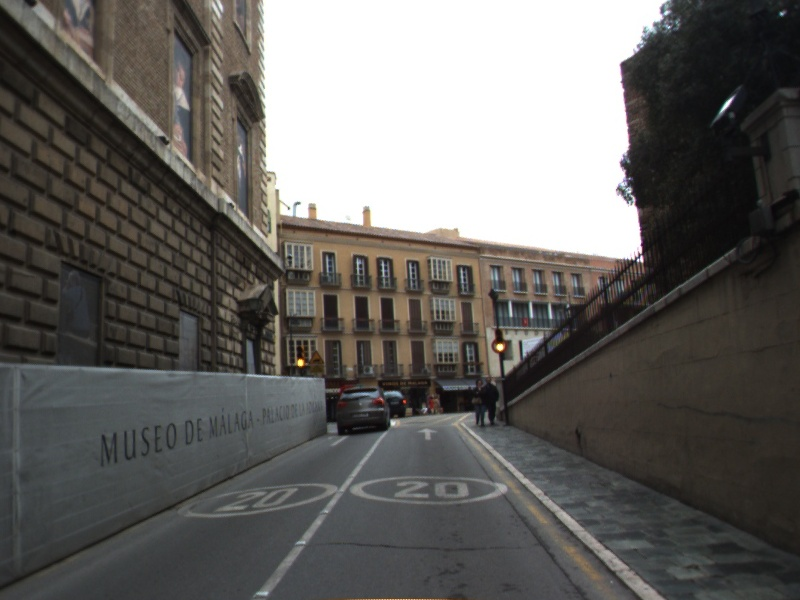STRAIGHT: (415, 426, 440, 441)
